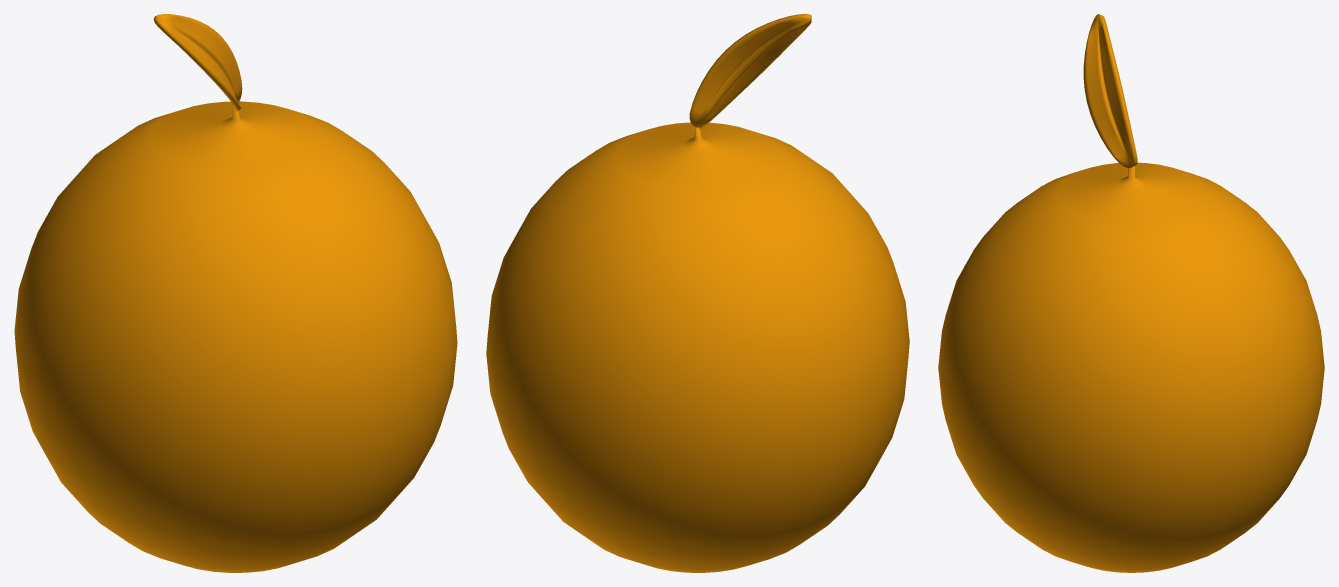
The model's file is orange.fbx.
3 renders of one model, left to right at view 1: azimuth 30°, elevation 25°; view 2: azimuth 150°, elevation 25°; view 3: azimuth 270°, elevation 25°, orthographic. The views are drawn at different scales.
Visible parts, largest first — view 1: Vert.001; view 2: Vert.001; view 3: Vert.001.
Boxes of the visible parts, x1,y1,x2,y2 form: Vert.001: (14,14,457,572); Vert.001: (486,14,909,572); Vert.001: (938,14,1324,572).
Size of the model in its own units: 280 by 401 by 280.
